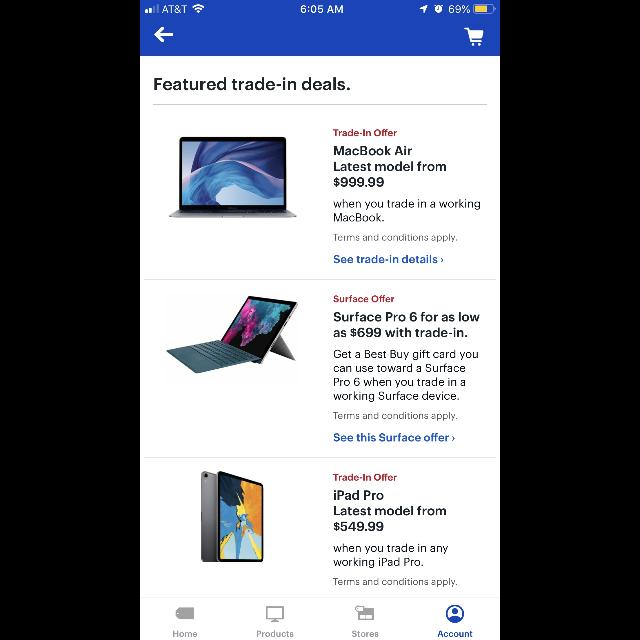icon: (464, 28, 484, 46), (446, 605, 464, 623), (154, 27, 173, 43), (176, 607, 194, 619), (441, 258, 443, 262), (452, 436, 454, 440)
image: (169, 137, 297, 219), (166, 296, 298, 374), (200, 472, 264, 562), (266, 606, 284, 622), (356, 606, 374, 620)
text: (334, 350, 478, 402), (334, 146, 446, 187), (334, 491, 446, 532), (334, 312, 480, 338), (334, 200, 481, 222), (334, 544, 448, 568), (154, 78, 350, 90), (334, 412, 456, 421), (334, 254, 438, 264), (334, 234, 456, 242), (334, 578, 456, 586), (334, 434, 448, 442), (333, 474, 397, 481), (333, 130, 397, 136), (334, 296, 394, 302), (256, 631, 294, 637), (438, 631, 472, 637), (352, 631, 378, 637), (174, 631, 198, 637)
uppertaskbar: (140, 0, 500, 14)
